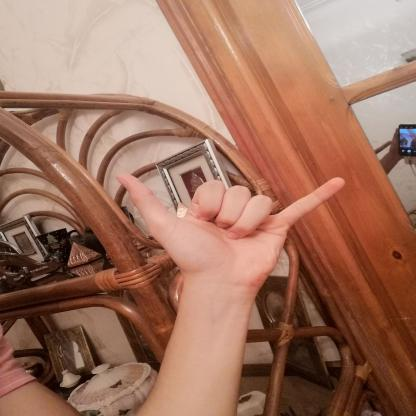YA: (96, 156, 362, 297)
